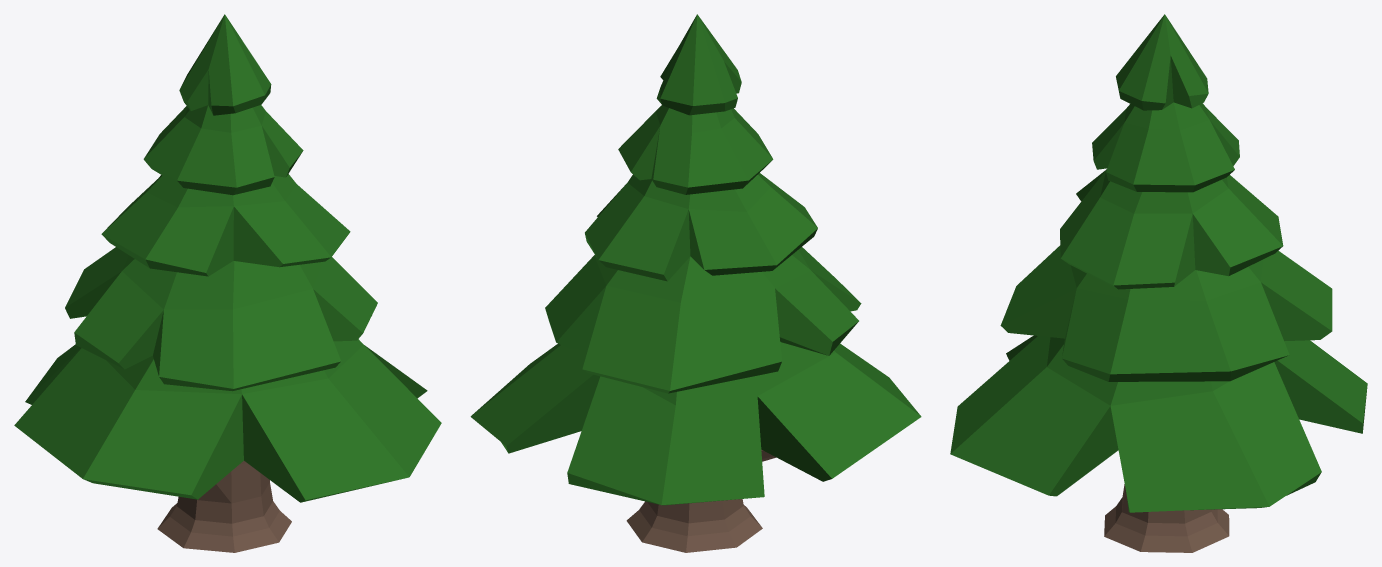
The model's file is Tree5.fbx.
The picture shows the model from 3 angles, left to right: view 1: azimuth 30°, elevation 25°; view 2: azimuth 150°, elevation 25°; view 3: azimuth 270°, elevation 25°; orthographic projection.
Visible parts, largest first — view 1: Cylinder.010; view 2: Cylinder.010; view 3: Cylinder.010.
Part boxes in pixels (x1,y1,x2,y2): Cylinder.010: (14, 14, 441, 552); Cylinder.010: (470, 14, 921, 552); Cylinder.010: (950, 14, 1367, 552).
Bounding box in the file's own units: 425 × 564 × 418.
